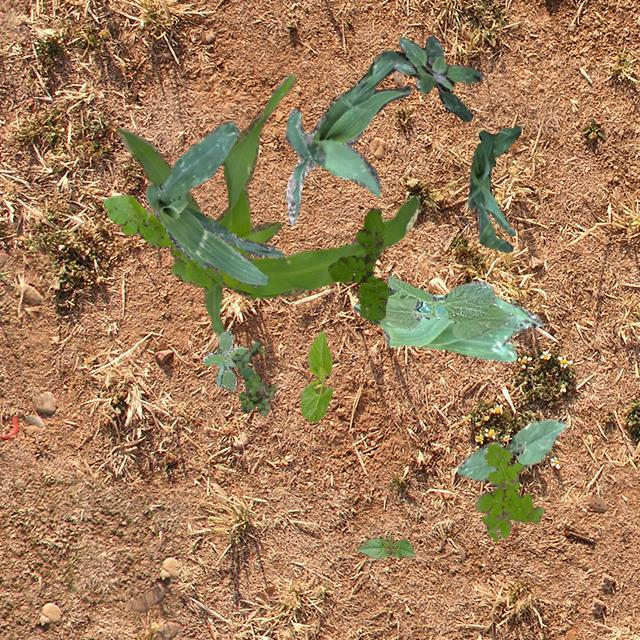crop: (116, 74, 418, 336), (144, 120, 282, 286), (284, 50, 410, 224), (370, 294, 542, 361), (352, 274, 514, 338), (456, 418, 566, 481), (466, 125, 520, 252), (298, 330, 332, 420), (356, 534, 414, 558)
weed: (102, 194, 222, 290), (394, 36, 481, 120), (474, 442, 544, 540), (327, 208, 388, 318), (230, 340, 276, 414), (202, 330, 248, 390)
